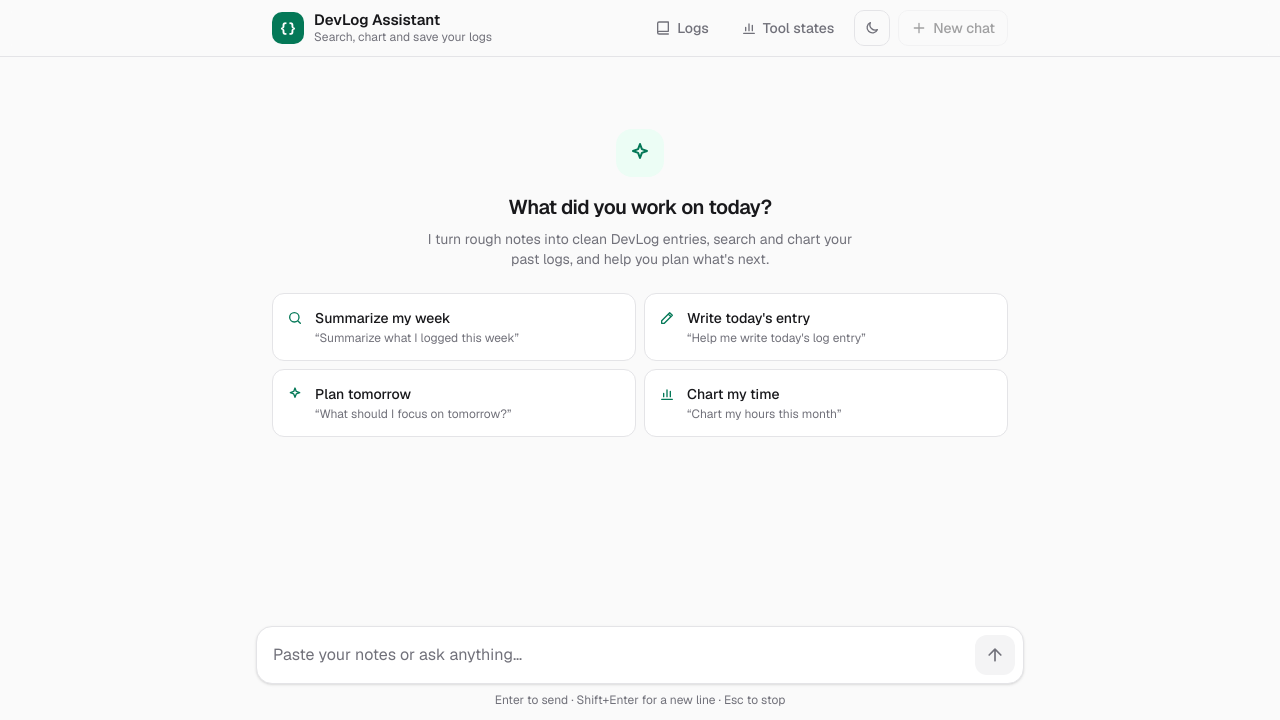
Test: Chat › ERROR mid-stream keeps the partial text and shows an alert with Retry; RETRY recovers
The image size is (1280, 720).
Expected: the heading "What did you work on today?" is shown, [508,193,772,221]
Type "Help me write today's log entry" into the text box named "Message the DevLog Assistant". click: (616, 655)
box: [265,635,967,675]
Then press Enter
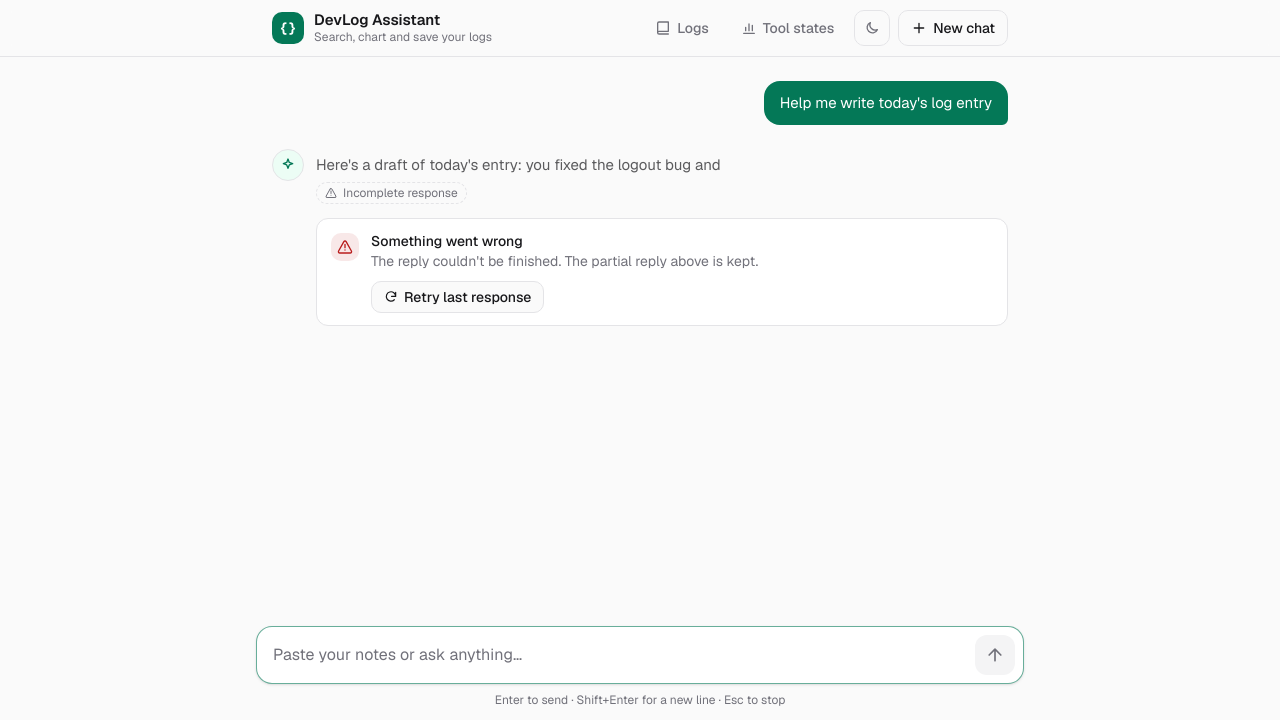
Expected: the message shows "Something went wrong", [371,232,523,250]
Expected: the message shows "The partial reply above is kept.", [561,252,758,270]
Expected: the element named "Conversation" shows "Here's a draft of today's entry: you fixed the logout bug and", [316,155,721,174]
// RETRY: re-runs only the last response, with the same conversation.
Click the button "Retry last response". click: (458, 297)
box: [371,281,544,313]
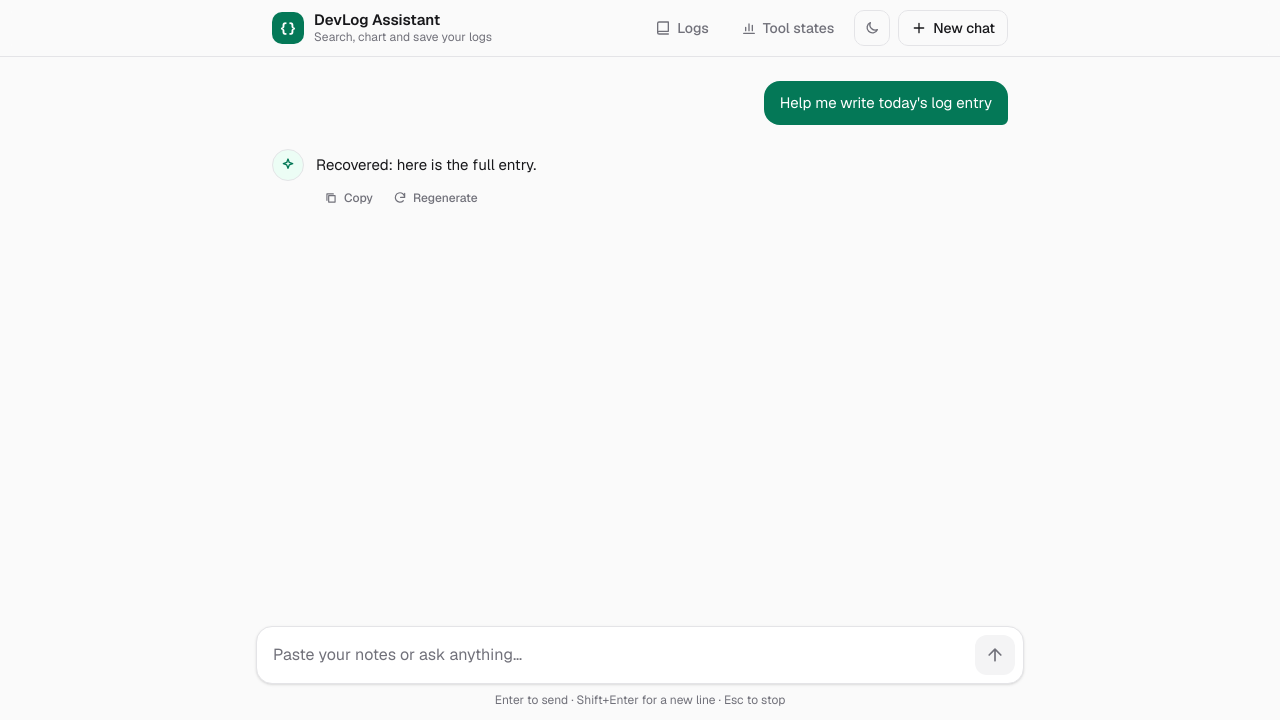
Expected: the element named "Conversation" shows "Recovered: here is the full entry.", [316,155,536,174]
Expected: the message "Something went wrong The reply couldn't be finished. The partial reply above is" is gone
Expected: the element named "Conversation" no longer shows "Here's a draft of today's entry: you fixed the logout bug and", [272,81,1008,214]
